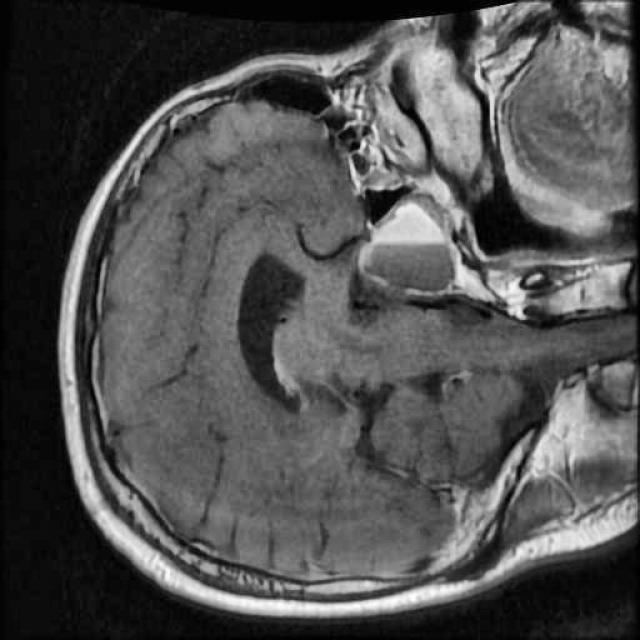Tumor: (351, 193, 475, 305)
